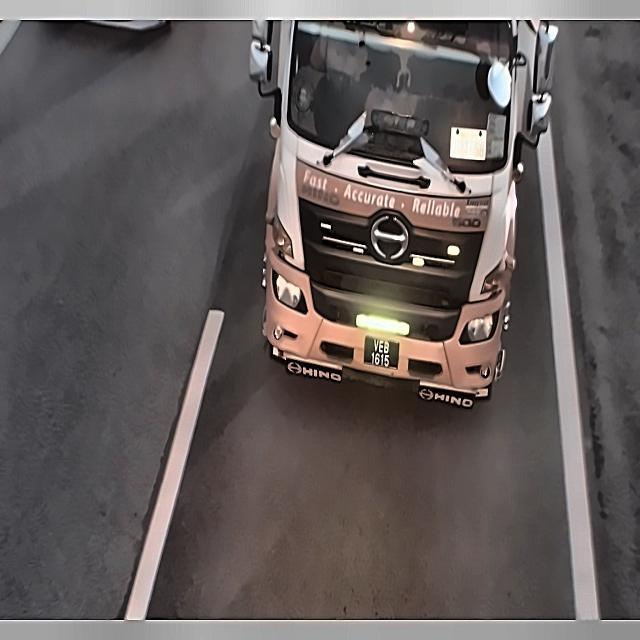car: (362, 330, 406, 383)
